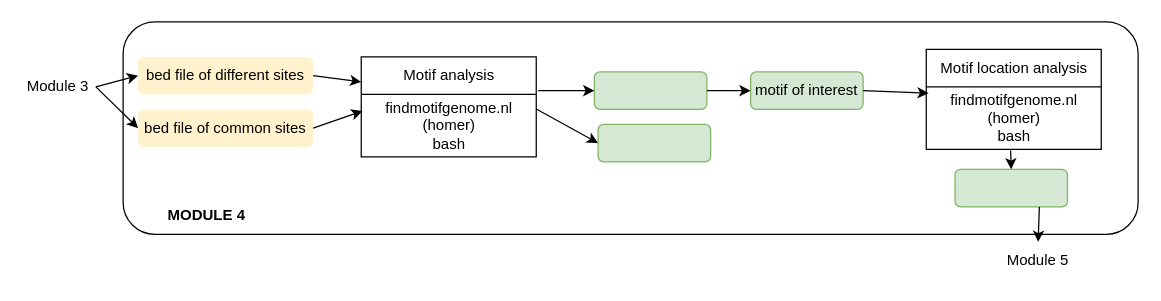
Some shapes in this 1161 by 301 pixel diagram are drawn without their labels. Here are the shapes that lost their labels. From the top down, the centre of each, then its label:
At point (650, 90): "homerResults (de novo)".
At point (654, 142): "knownResults".
At point (1011, 187): "motif tab delimited file".
